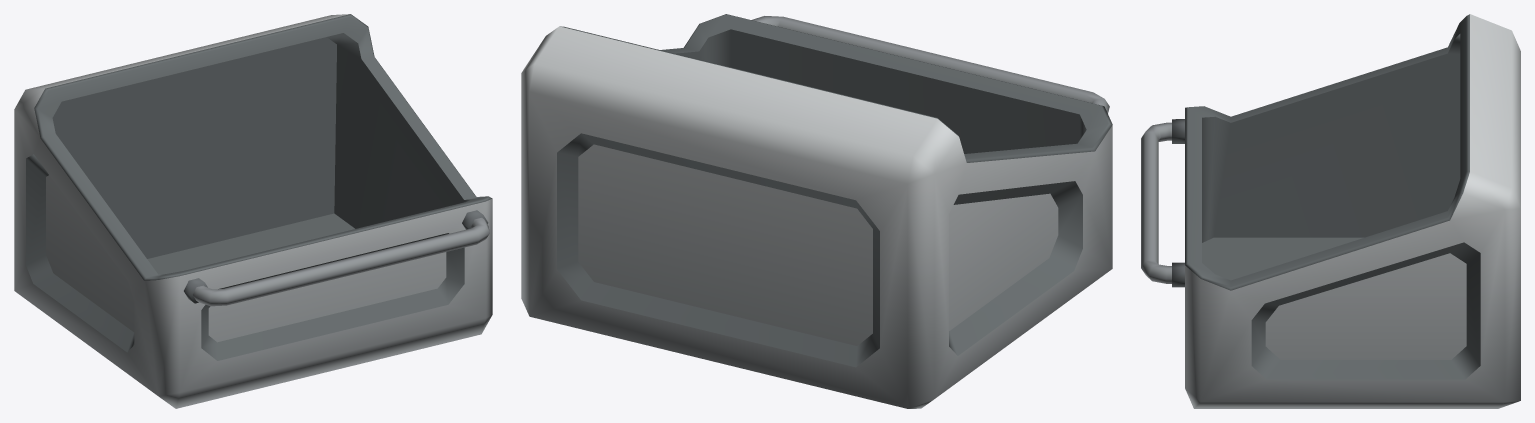
Rendered from Crate_014.fbx.
3 renders of one model, left to right at view 1: azimuth 30°, elevation 25°; view 2: azimuth 150°, elevation 25°; view 3: azimuth 270°, elevation 25°, orthographic. The views are drawn at different scales.
Parts seen in each view (by area): view 1: Crate_014; view 2: Crate_014; view 3: Crate_014.
Part boxes in pixels (x1=…): Crate_014: x1=14, y1=14, x2=492, y2=408; Crate_014: x1=521, y1=14, x2=1112, y2=408; Crate_014: x1=1141, y1=14, x2=1520, y2=408.
Size of the model in its own units: 104 by 96.92 by 66.83.
